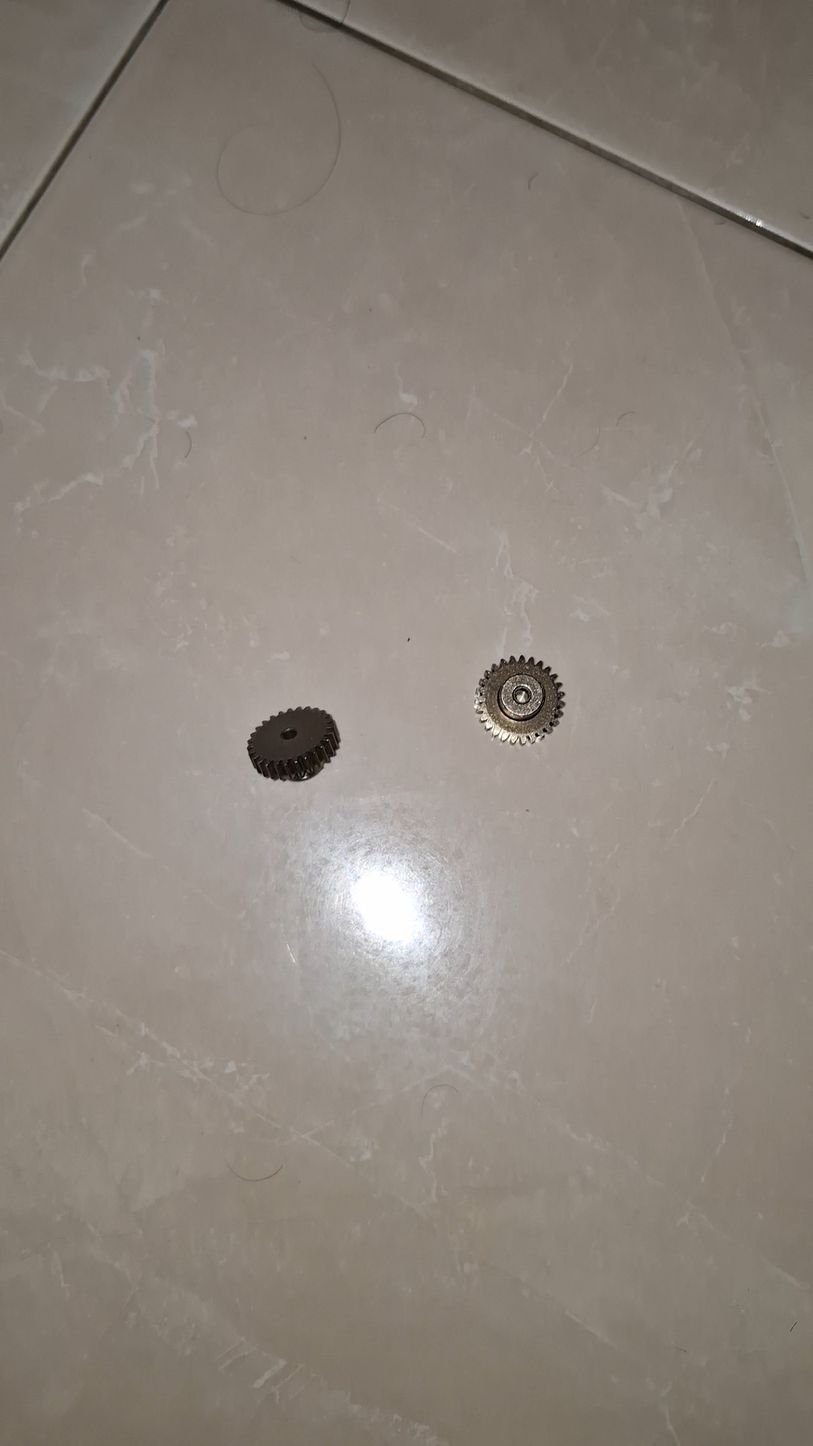spur gear: (475, 656, 564, 743), (247, 707, 339, 780)
